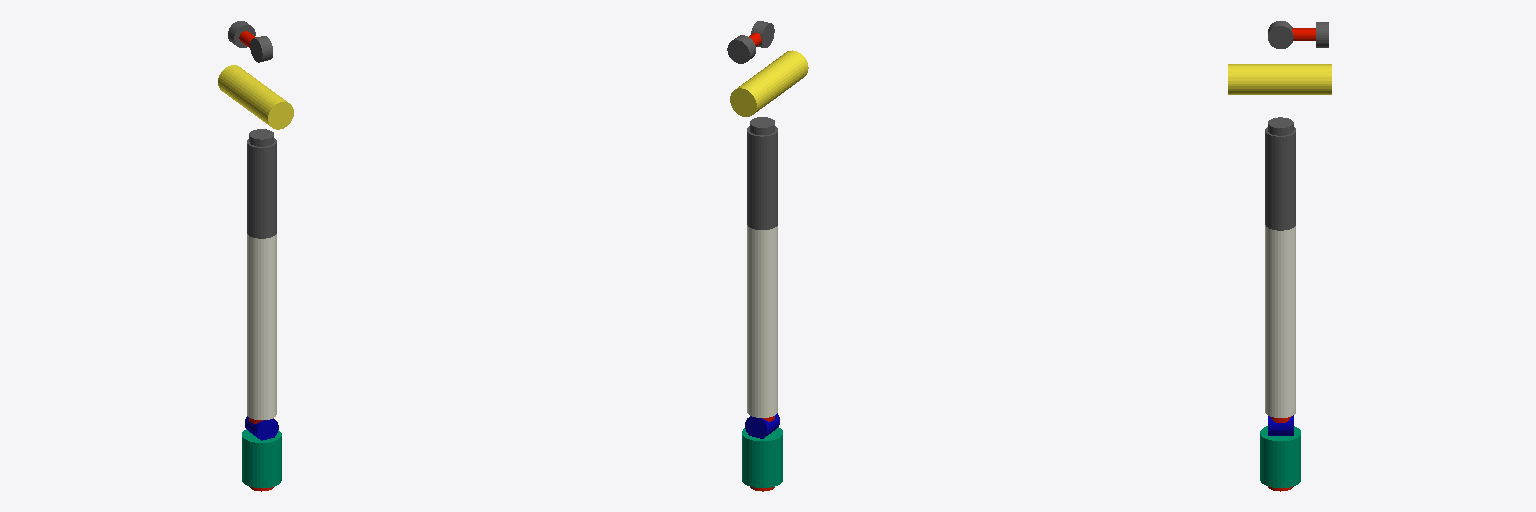
robot.urdf — prosthetic:
<?xml version="0.0" ?>
<robot name="prosthetic" >



<material name="scarlet">
    <color rgba="0.89 0.13 0.0 1"/>
</material>
<material name="grey">
    <color rgba="0.4 0.4 0.4 1.0"/>
</material>
 <material name="silver">
    <color rgba="0.913725490196 0.913725490196 0.847058823529 1.0"/>
  </material>


 

  <link name="right_jlink0">
    <inertial>
      <origin rpy="0 0 0" xyz="0 0 0"/>
       <mass value=".01"/>
       <inertia ixx="0" ixy="0" ixz="0" iyy="0" iyz="0" izz="0"/>
    </inertial>
    <visual>
      <origin rpy="1.5707  0 0" xyz="0 0 0"/>
      <geometry>
        <cylinder radius="0.025" length="0.025"/>
      </geometry>
       <material name="grey"/>
    </visual>
    <collision>
      <origin rpy="1.5707 0 0" xyz="0 0 0"/>
      <geometry>
        <cylinder radius="0.025" length="0.025"/>
      </geometry>
    </collision>
  </link>

  <link name="right_link1">
    <inertial>
      <origin rpy="0 0 0" xyz="0 0 0"/>
       <mass value=".000000001"/>
       <inertia ixx="0" ixy="0" ixz="0" iyy="0" iyz="0" izz="0"/>
    </inertial>
    <visual>
      <origin rpy="1.5707 0 0" xyz="0 0 0"/>
      <geometry>
       <cylinder radius="0.0125" length="0.08"/>
       <!-- <box size = "0.025 0.08 0.025"/> -->
      </geometry>
       <material name="scarlet"/> 
    </visual>
    <collision>
      <origin rpy="1.5707 0 0" xyz="0 0 0"/>
      <geometry>
       <cylinder radius="0.0125" length="0.08"/>
      </geometry>
    </collision>
  </link>

  <joint name="right_joint1f" type="revolute"> 
    <parent link="right_jlink0"/>
    <child link="right_link1"/>
    <origin rpy="0 0 0" xyz="0 -0.04 0.0"/>  
    <axis xyz="0 1 0"/>
    <limit lower="-3.1415" upper="3.1415" effort="1.4" velocity="0.25"/>
  </joint>

  <link name="right_jlink1">
    <inertial>
      <origin rpy="0 0 0" xyz="0 0 0"/>
       <mass value=".01"/>
       <inertia ixx="0" ixy="0" ixz="0" iyy="0" iyz="0" izz="0"/>
    </inertial>
    <visual>
      <origin rpy="0 1.5707 0" xyz="0 0 0"/>
      <geometry>
        <cylinder radius="0.025" length="0.025"/>
      </geometry>
       <material name="grey"/>
    </visual>
    <collision>
      <origin rpy="0 1.5707 0" xyz="0 0 0"/>
      <geometry>
        <cylinder radius="0.025" length="0.025"/>
      </geometry>
    </collision>
</link>

  <joint name="right_joint1" type="revolute">
    <parent link="right_link1"/>
    <child link="right_jlink1"/>
    <origin rpy="0 0 0" xyz="0 -0.04 0"/> 
    <axis xyz="1 0 0"/>
    <limit lower="-3.1415" upper="3.1415" effort="1.4" velocity="0.25"/>  
  </joint>

  <link name="right_link2">
    <inertial>
      <origin rpy="0 0 0" xyz="0 0 0"/>
       <mass value=".000000001"/>
       <inertia ixx="0" ixy="0" ixz="0" iyy="0" iyz="0" izz="0"/>
    </inertial>
    <visual>
      <origin rpy="0 0 0" xyz="0 0 0"/>
      <geometry>
       <!-- <cylinder radius="0.03" length="0.2"/> -->
       <mesh filename="meshes/link2.obj"/>
      </geometry>
       <!-- <material name="scarlet"/>  -->
    </visual>
    <collision>
      <origin rpy="0 0 0" xyz="0 0 0"/>
      <geometry>
       <cylinder radius="0.03" length="0.2"/>
      </geometry>
    </collision>
</link>

<joint name="right_joint2f" type="fixed">
    <parent link="right_jlink1"/>
    <child link="right_link2"/>
    <origin rpy="0 0 0" xyz="0 0  -0.1"/> 
        
</joint>

<link name="right_jlink2">
    <inertial>
      <origin rpy="0 0 0" xyz="0 0 0"/>
       <mass value=".01"/>
       <inertia ixx="0" ixy="0" ixz="0" iyy="0" iyz="0" izz="0"/>
    </inertial>
    <visual>
      <origin rpy="0 0 0" xyz="0 0 0"/>
      <geometry>
        <cylinder radius="0.025" length="0.025"/>
      </geometry>
       <material name="grey"/>
    </visual>
    <collision>
      <origin rpy="0 0 0" xyz="0 0 0"/>
      <geometry>
        <cylinder radius="0.025" length="0.025"/>
      </geometry>
    </collision>
</link>

<joint name="right_joint2" type="fixed">
    <parent link="right_link2"/>
    <child link="right_jlink2"/>
    <origin rpy="0 0 0" xyz="0 0 -0.1"/> 
     
  </joint>

  <link name="right_link3">
    <inertial>
      <origin rpy="0 0 0" xyz="0 0 0"/>
       <mass value=".000000001"/>
       <inertia ixx="0" ixy="0" ixz="0" iyy="0" iyz="0" izz="0"/>
    </inertial>
    <visual>
      <origin rpy="0 0 0" xyz="0 0 0"/>
      <geometry>
       <cylinder radius="0.03" length="0.2"/>
      </geometry>
       <material name="grey"/> 
    </visual>
    <collision>
      <origin rpy="0 0 0" xyz="0 0 0"/>
      <geometry>
       <cylinder radius="0.03" length="0.2"/>
      </geometry>
    </collision>
</link>

<joint name="right_joint3f" type="fixed">
    <parent link="right_jlink2"/>
    <child link="right_link3"/>
    <origin rpy="0 0 0" xyz="0 0  -0.1035"/>   
</joint>

<link name="right_jlink3">
    <inertial>
      <origin rpy="0 0 0" xyz="0 0 0"/>
       <mass value=".01"/>
       <inertia ixx="0" ixy="0" ixz="0" iyy="0" iyz="0" izz="0"/>
    </inertial>
    <visual>
      <origin rpy="0 1.5707 0" xyz="0 0 0"/>
      <geometry>
        <cylinder radius="0.025" length="0.025"/>
      </geometry>
       <material name="scarlet"/>
    </visual>
    <collision>
      <origin rpy="0 1.5707 0" xyz="0 0 0"/>
      <geometry>
        <cylinder radius="0.025" length="0.025"/>
      </geometry>
    </collision>
</link>

<joint name="right_joint3" type="revolute">
    <parent link="right_link3"/>
    <child link="right_jlink3"/>
    <origin rpy="0 0 0" xyz="0 0.0 -0.1"/> 
    <axis xyz="1 0 0"/>
    <limit lower="-3.1415" upper="3.1415" effort="1.4" velocity="0.25"/>  
  </joint>

  <link name="right_link4">
    <inertial>
      <origin rpy="0 0 0" xyz="0 0 0"/>
       <mass value=".000000001"/>
       <inertia ixx="0" ixy="0" ixz="0" iyy="0" iyz="0" izz="0"/>
    </inertial>
    <visual>
      <origin rpy="0 0 0" xyz="0 0 0"/>
      <geometry>
       <cylinder radius="0.03" length="0.4"/>
      </geometry>
       <material name="silver"/> 
    </visual>
    <collision>
      <origin rpy="0 0 0" xyz="0 0 0"/>
      <geometry>
       <cylinder radius="0.03" length="0.4"/>
      </geometry>
    </collision>
</link>

<joint name="right_joint4f" type="fixed">
    <parent link="right_jlink3"/>
    <child link="right_link4"/>
    <origin rpy="0 0 0" xyz="0 0  -0.2"/>   
</joint>

<link name="right_jlink4">
    <inertial>
      <origin rpy="0 0 0" xyz="0.107996 0.000521 -0.017765"/>
      <mass value="0.550582"/>
      <inertia ixx="0.000476" ixy="-2.9e-05" ixz="0.001403" iyy="0.009564" iyz="-1.5e-05" izz="-9e-06"/>
    </inertial>
    <visual>
      <origin rpy="0 0 0 " xyz="0 0 0"/>
      <geometry>
        <cylinder radius="0.025" length="0.025"/>
      </geometry>
      <material name="scarlet"/> 
    </visual>
    <collision>
      <origin rpy="0 0 0" xyz="0 0 0"/>
      <geometry>
        <cylinder radius="0.025" length="0.025"/>
      </geometry>
    </collision>
</link>

<joint name="right_joint4" type="revolute">
    <origin rpy="0 0 0" xyz="0.0 0.0 -0.2"/>
    <parent link="right_link4"/>
    <child link="right_jlink4"/>
    <axis xyz="0 0 1"/>
    <limit effort="1.4" lower="-1.57" upper="1.57" velocity="10"/>
  </joint>

<link name="right_wrist">
    <inertial>
      <origin rpy="0 0 0" xyz="0.107996 0.000521 -0.017765"/>
      <mass value="0.550582"/>
      <inertia ixx="0.000476" ixy="-2.9e-05" ixz="0.001403" iyy="0.009564" iyz="-1.5e-05" izz="-9e-06"/>
    </inertial>
    <visual>
      <origin rpy="0 1.5707 1.5707 " xyz="0 0 0"/>
      <geometry>
        <cylinder radius="0.025" length="0.05"/>
      </geometry>
      <material name="blue">
        <color rgba="0.05 0.05 0.75 0.9"/>
      </material>
    </visual>
    <collision>
      <origin rpy="0 1.5707 1.5707" xyz="0 0 0"/>
      <geometry>
        <cylinder radius="0.025" length="0.05"/>
      </geometry>
    </collision>
  </link>
  <joint name="right_wrist_joint" type="revolute">
    <origin rpy="0 1.5707 0" xyz="0.0 0.0 -0.025"/>
    <parent link="right_jlink4"/>
    <child link="right_wrist"/>
    <axis xyz="0 1 0"/>
    <limit effort="1.4" lower="-1.57" upper="1.57" velocity="10"/>
  </joint>

  <link name="right_gripper_base">
    <inertial>
      <origin rpy="0 0 0" xyz="0 0 0"/>
      <mass value="0.2"/>
      <inertia ixx="0.0001" ixy="0" ixz="0" iyy="0.0001" iyz="0" izz="0.0001"/>
    </inertial>
    <visual>
      <origin rpy="0 1.5707 0" xyz="0 0 0"/>
      <geometry> 
        <cylinder radius="0.04" length="0.1"/>
      </geometry>
      <material name="Light_Grey"/>
    </visual>
    <collision>
      <origin rpy="0 1.5707 0" xyz="0 0 0"/>
      <geometry> 
       <cylinder radius="0.04" length="0.1"/>
      </geometry>
      <material name="Light_Grey"/>
    </collision>
  </link>

  <joint name="gripper_right_wrist_joint" type="revolute">
    <origin rpy="0 0 0" xyz="0.07 0 0"/>
    <parent link="right_wrist"/>
    <child link="right_gripper_base"/>
    <axis xyz="1 0 0"/>
    <limit effort="1.4" lower="-1.57" upper="1.57" velocity="10"/>
  </joint>

  <link name="right_gripper_ee">
    <inertial>
      <origin rpy="0 0 0" xyz="0 0 0"/>
      <mass value="0.2"/>
      <inertia ixx="0.0001" ixy="0" ixz="0" iyy="0.0001" iyz="0" izz="0.0001"/>
    </inertial>
    <visual>
      <origin rpy="0 1.5707 0" xyz="0 0 0"/>
      <geometry>        
       <cylinder radius="0.025" length="0.025"/>
      </geometry>
      <material name="scarlet"/>
    </visual>
    <collision>
      <origin rpy="0 1.5707 0" xyz="0 0 0"/>
      <geometry>
       <cylinder radius="0.025" length="0.025"/>
      </geometry> 
    </collision>
  </link>
  <joint name="right_gripper_baseee_to_gripper_base" type="fixed">
    <origin rpy="0 0 0" xyz="0.05125 0.0 0"/>
    <parent link="right_gripper_base"/>
    <child link="right_gripper_ee"/>
  </joint>

   



  


</robot>

--- Render facts (derived) ---
3 views of the same robot in one strip: view 1: azimuth 30°, elevation 25°; view 2: azimuth 150°, elevation 25°; view 3: azimuth 270°, elevation 25° (orthographic).
Model prosthetic with 12 links and 11 joints (6 revolute, 5 fixed), rooted at right_jlink0, posed all joints at 0.
Links seen in each view (by area): view 1: right_link4, right_link3, right_link2, right_gripper_base, right_wrist; view 2: right_link4, right_link3, right_link2, right_gripper_base, right_jlink0, right_wrist; view 3: right_link4, right_link2, right_link3, right_gripper_base, right_jlink1.
Link boxes in pixels (x1,y1,x2,y2): right_link4: (247,234,276,419); right_link3: (247,138,276,238); right_link2: (218,65,293,129); right_gripper_base: (242,429,281,487); right_wrist: (245,416,278,440); right_link4: (747,225,777,417); right_link3: (747,126,777,229); right_link2: (730,50,808,116); right_gripper_base: (742,427,782,487); right_jlink0: (727,35,755,63); right_wrist: (745,413,779,438); right_link4: (1265,225,1295,417); right_link2: (1228,64,1331,94); right_link3: (1265,127,1295,230); right_gripper_base: (1260,426,1300,487); right_jlink1: (1268,21,1293,48).
Bounding box of the posed robot: 0.0842 × 0.2 × 0.9873 m (x, y, z).
Meshes: 1 distinct files referenced, 1 mesh visuals loaded (1 OBJ).